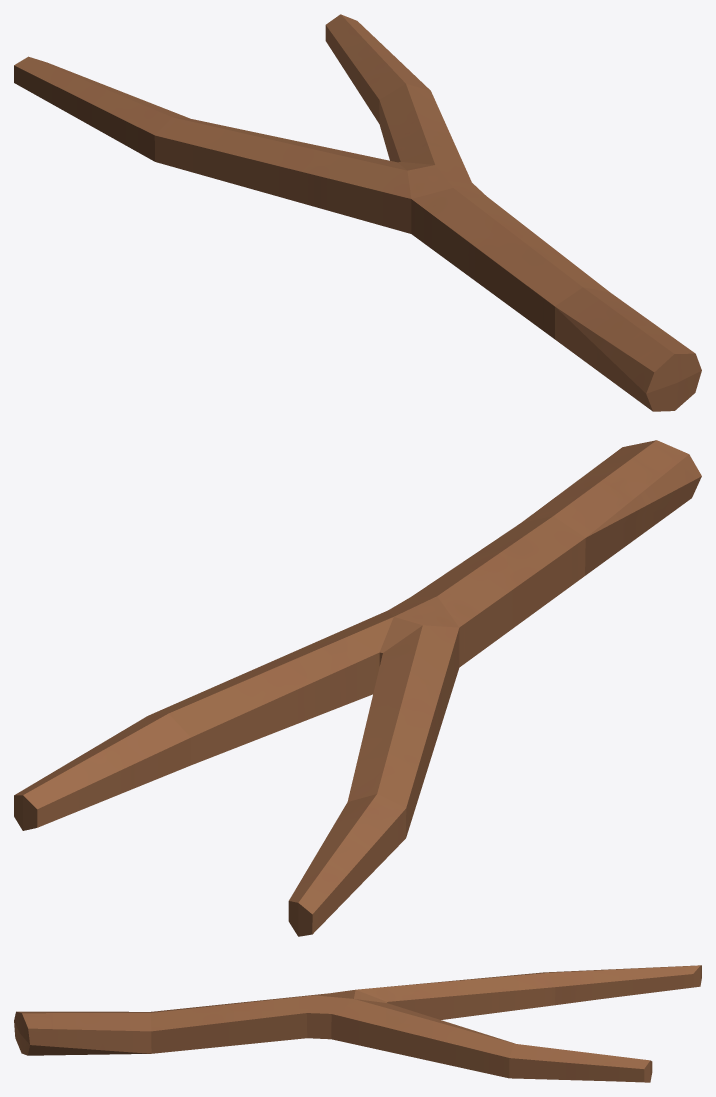
File: Tree_Branch_03.fbx
3 views of the same model, one above another, from view 1: azimuth 30°, elevation 25°; view 2: azimuth 150°, elevation 25°; view 3: azimuth 270°, elevation 25° (orthographic). The views are drawn at different scales.
Visible parts, largest first — view 1: Tree_Branch_03; view 2: Tree_Branch_03; view 3: Tree_Branch_03.
Boxes of the visible parts, left/top/right/bottom form: Tree_Branch_03: left=14, top=14, right=701, bottom=411; Tree_Branch_03: left=14, top=440, right=701, bottom=936; Tree_Branch_03: left=14, top=965, right=701, bottom=1082.
Bounding box in the file's own units: 39.97 × 9.51 × 111.
